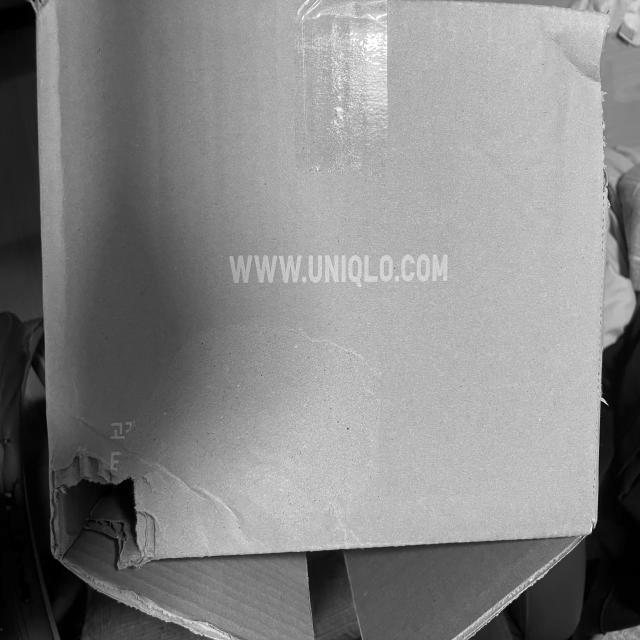hole: (53, 470, 151, 568)
